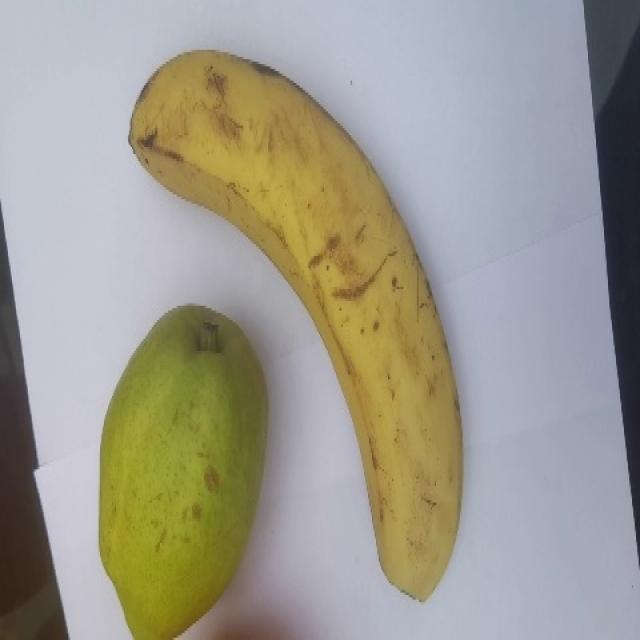Banana: (127, 47, 464, 602)
